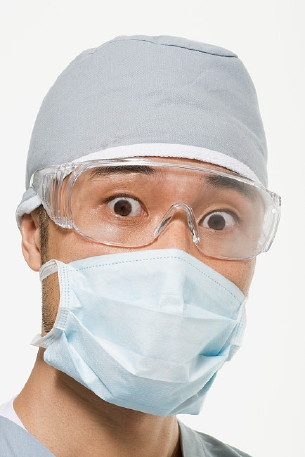Mask: (40, 160, 281, 403)
